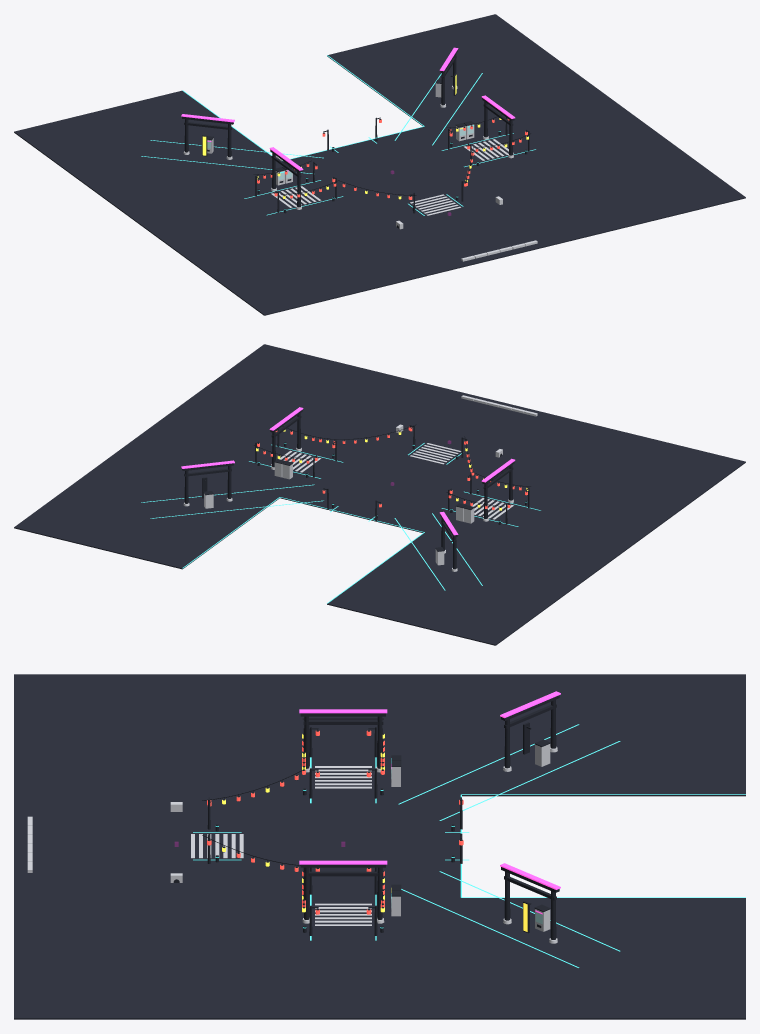
Rendered from AAT_PlazaGround.glb.
3 views of the same model, one above another, from view 1: azimuth 30°, elevation 25°; view 2: azimuth 150°, elevation 25°; view 3: azimuth 270°, elevation 25° (orthographic). The views are drawn at different scales.
Visible parts, largest first — view 1: Floor_GroundSouth__floor, Floor_GroundEast__floor, Floor_GroundWest__floor, PlazaGroundDeco__graphite, PlazaGroundDeco__pearl, PlazaGroundDeco__bio, PlazaGroundDeco__magenta; view 2: Floor_GroundSouth__floor, Floor_GroundWest__floor, Floor_GroundEast__floor, PlazaGroundDeco__graphite, PlazaGroundDeco__pearl, PlazaGroundDeco__bio, PlazaGroundDeco__magenta; view 3: Floor_GroundSouth__floor, Floor_GroundEast__floor, Floor_GroundWest__floor, PlazaGroundDeco__graphite, PlazaGroundDeco__pearl, PlazaGroundDeco__bio, PlazaGroundDeco__magenta, PlazaGroundDeco__lantern, PlazaGroundDeco__cable.
Part boxes in pixels (box(x1,y1,x2,y2)): Floor_GroundSouth__floor: box(111, 85, 745, 315); Floor_GroundEast__floor: box(327, 14, 592, 126); Floor_GroundWest__floor: box(14, 90, 276, 203); PlazaGroundDeco__graphite: box(182, 50, 529, 228); PlazaGroundDeco__pearl: box(183, 83, 537, 261); PlazaGroundDeco__bio: box(141, 55, 535, 215); PlazaGroundDeco__magenta: box(181, 47, 515, 171); Floor_GroundSouth__floor: box(112, 344, 745, 574); Floor_GroundWest__floor: box(327, 532, 592, 645); Floor_GroundEast__floor: box(14, 456, 279, 569); PlazaGroundDeco__graphite: box(182, 410, 529, 569); PlazaGroundDeco__pearl: box(183, 395, 537, 571); PlazaGroundDeco__bio: box(141, 443, 540, 603); PlazaGroundDeco__magenta: box(181, 407, 515, 535); Floor_GroundSouth__floor: box(14, 674, 461, 1019); Floor_GroundEast__floor: box(461, 898, 745, 1019); Floor_GroundWest__floor: box(461, 674, 745, 796); PlazaGroundDeco__graphite: box(173, 695, 559, 939); PlazaGroundDeco__pearl: box(27, 744, 557, 943); PlazaGroundDeco__bio: box(193, 724, 745, 967); PlazaGroundDeco__magenta: box(299, 691, 560, 914); PlazaGroundDeco__lantern: box(207, 730, 463, 914); PlazaGroundDeco__cable: box(202, 718, 383, 908).
Size of the model in its own units: 200 by 16.75 by 180.
